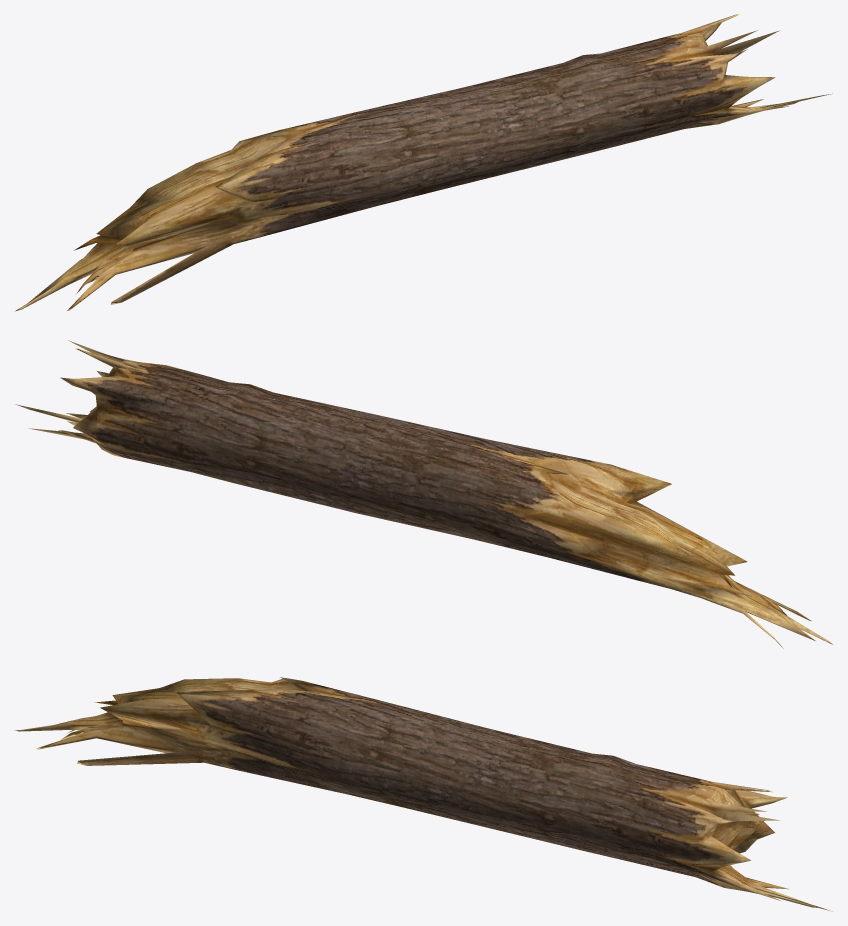
The model's file is TreeBroken8.fbx.
3 renders of one model, top to bottom at view 1: azimuth 30°, elevation 25°; view 2: azimuth 150°, elevation 25°; view 3: azimuth 330°, elevation 25°, orthographic. The views are drawn at different scales.
Visible parts, largest first — view 1: SM_cmn_mount_BrokenTree_05b; view 2: SM_cmn_mount_BrokenTree_05b; view 3: SM_cmn_mount_BrokenTree_05b.
Boxes of the visible parts, <box> form: SM_cmn_mount_BrokenTree_05b: <box>14,14,832,311</box>; SM_cmn_mount_BrokenTree_05b: <box>15,340,832,648</box>; SM_cmn_mount_BrokenTree_05b: <box>14,677,832,911</box>.
Size of the model in its own units: 682 by 95.88 by 75.01.
